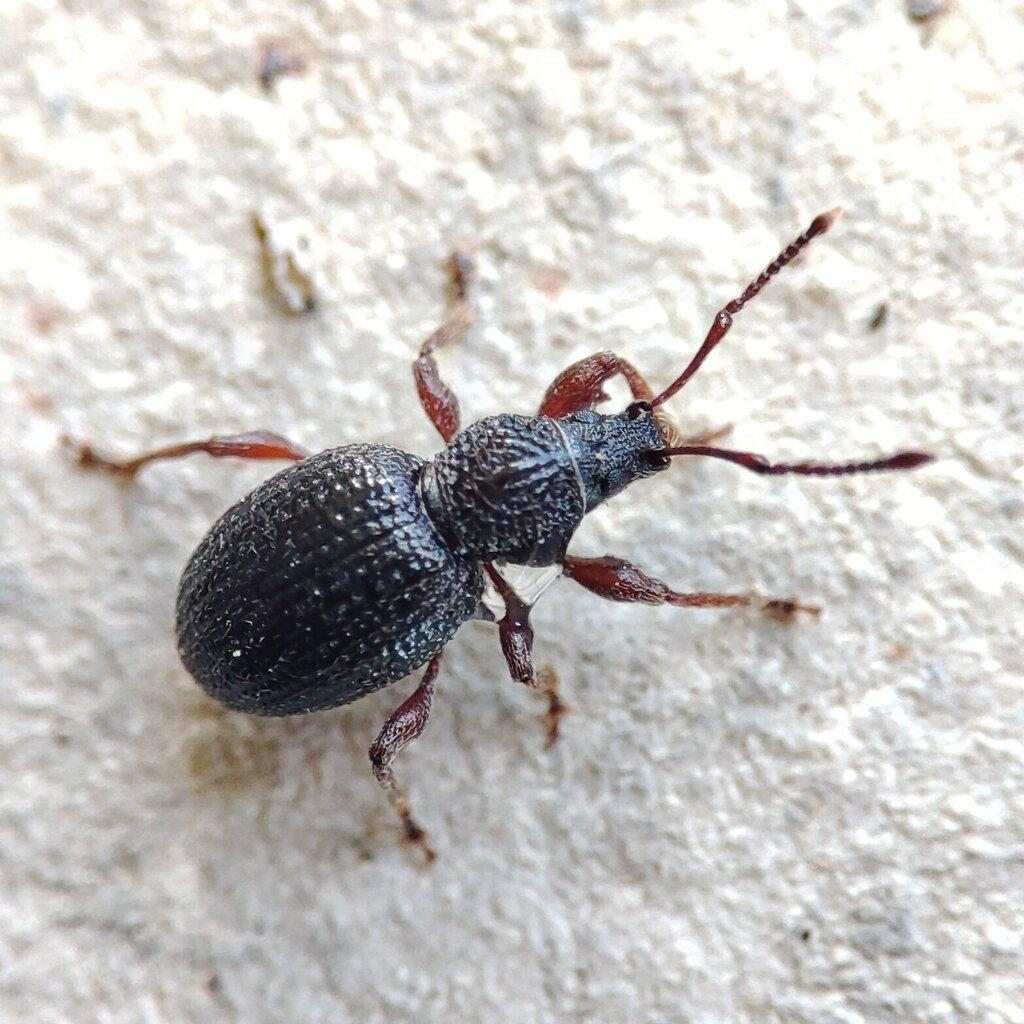weevils: (0, 79, 1024, 983)
